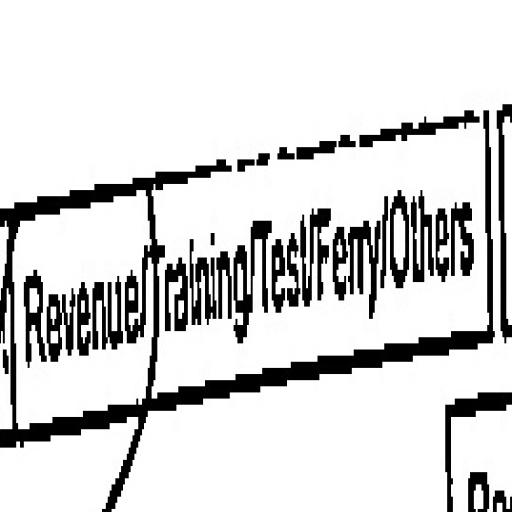check: (0, 135, 155, 512)
